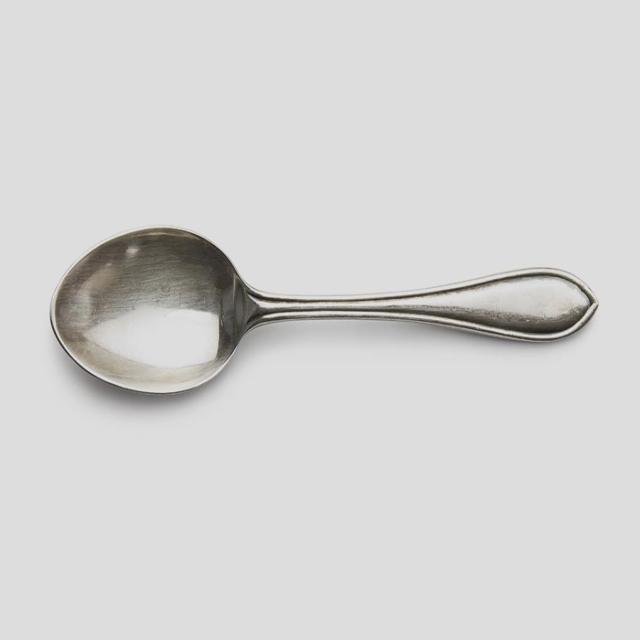spoon: (39, 212, 606, 403)
